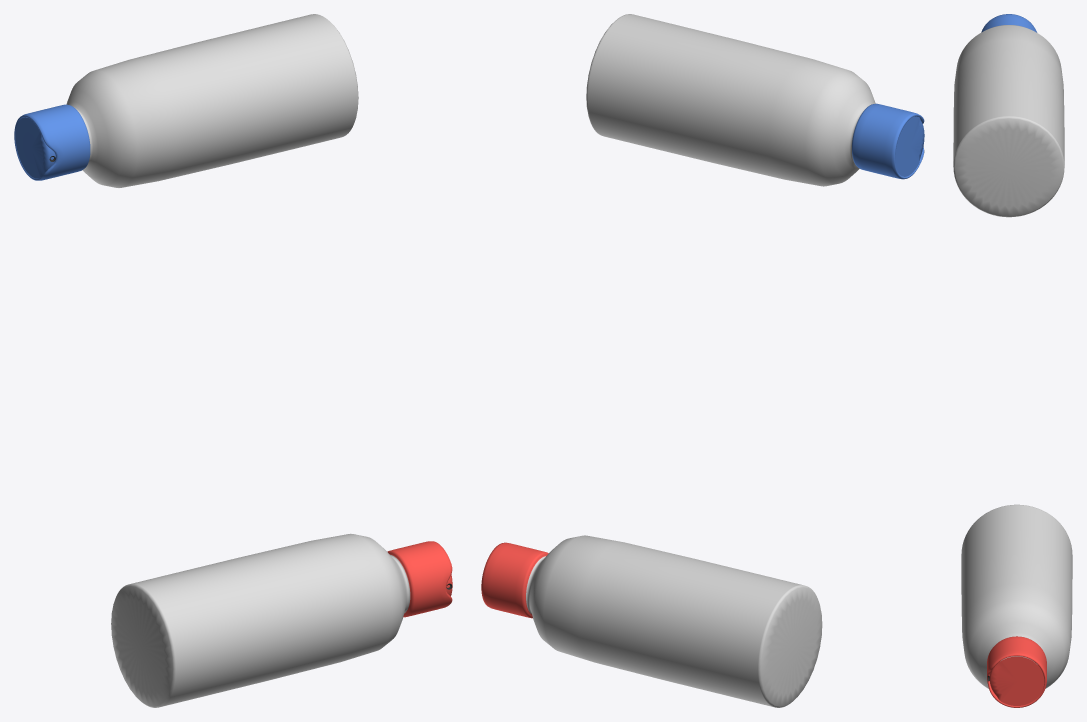
File: bottles.glb
3 renders of one model, left to right at view 1: azimuth 30°, elevation 25°; view 2: azimuth 150°, elevation 25°; view 3: azimuth 270°, elevation 25°, orthographic. The views are drawn at different scales.
Parts seen in each view (by area): view 1: BottleRight, BottleLeft; view 2: BottleLeft, BottleRight; view 3: BottleRight, BottleLeft.
Boxes of the visible parts, <box> form: BottleRight: <box>14,14,358,187</box>; BottleLeft: <box>111,533,452,707</box>; BottleLeft: <box>481,535,822,707</box>; BottleRight: <box>586,14,924,186</box>; BottleRight: <box>953,14,1064,217</box>; BottleLeft: <box>961,504,1072,707</box>.
Bounding box in the file's own units: 0.1664 × 0.2481 × 0.0474.
